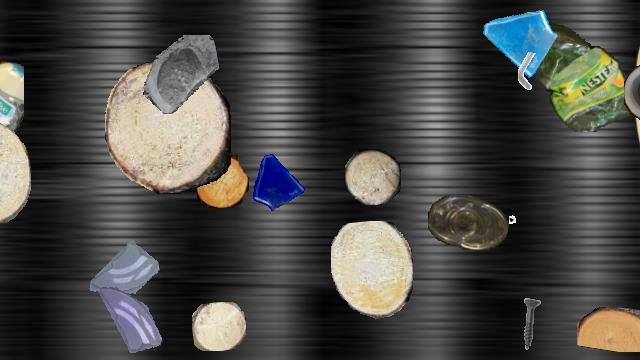glass: (479, 1, 557, 79), (141, 35, 219, 113), (92, 285, 166, 359), (87, 238, 159, 310), (247, 151, 307, 211)
metal: (502, 297, 558, 353), (508, 52, 548, 92), (509, 206, 547, 244)
plastic: (504, 12, 634, 132), (428, 195, 508, 249), (0, 57, 23, 191), (624, 36, 640, 122), (634, 1, 640, 197)
wood: (105, 61, 231, 193), (331, 221, 413, 319), (0, 119, 30, 225), (345, 149, 401, 205), (577, 307, 640, 351), (196, 155, 248, 207), (192, 302, 246, 350)
